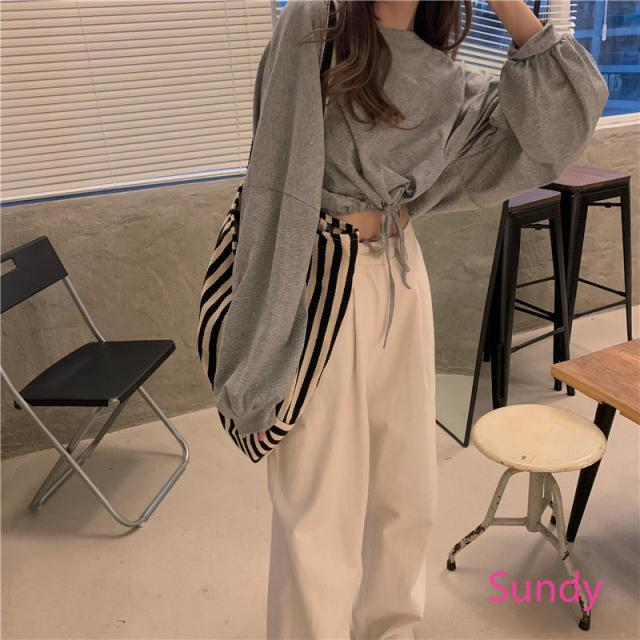Shirt: (207, 0, 623, 440)
